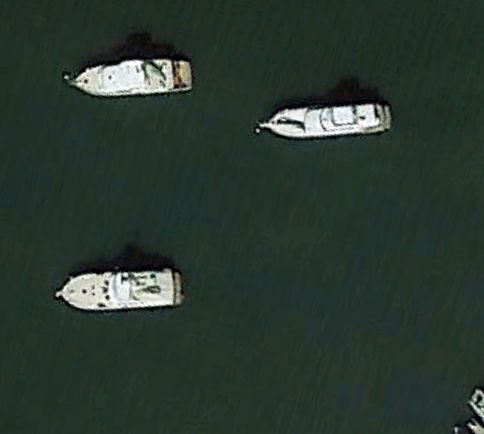boat: (55, 264, 186, 314), (255, 101, 391, 142), (66, 57, 195, 98)
